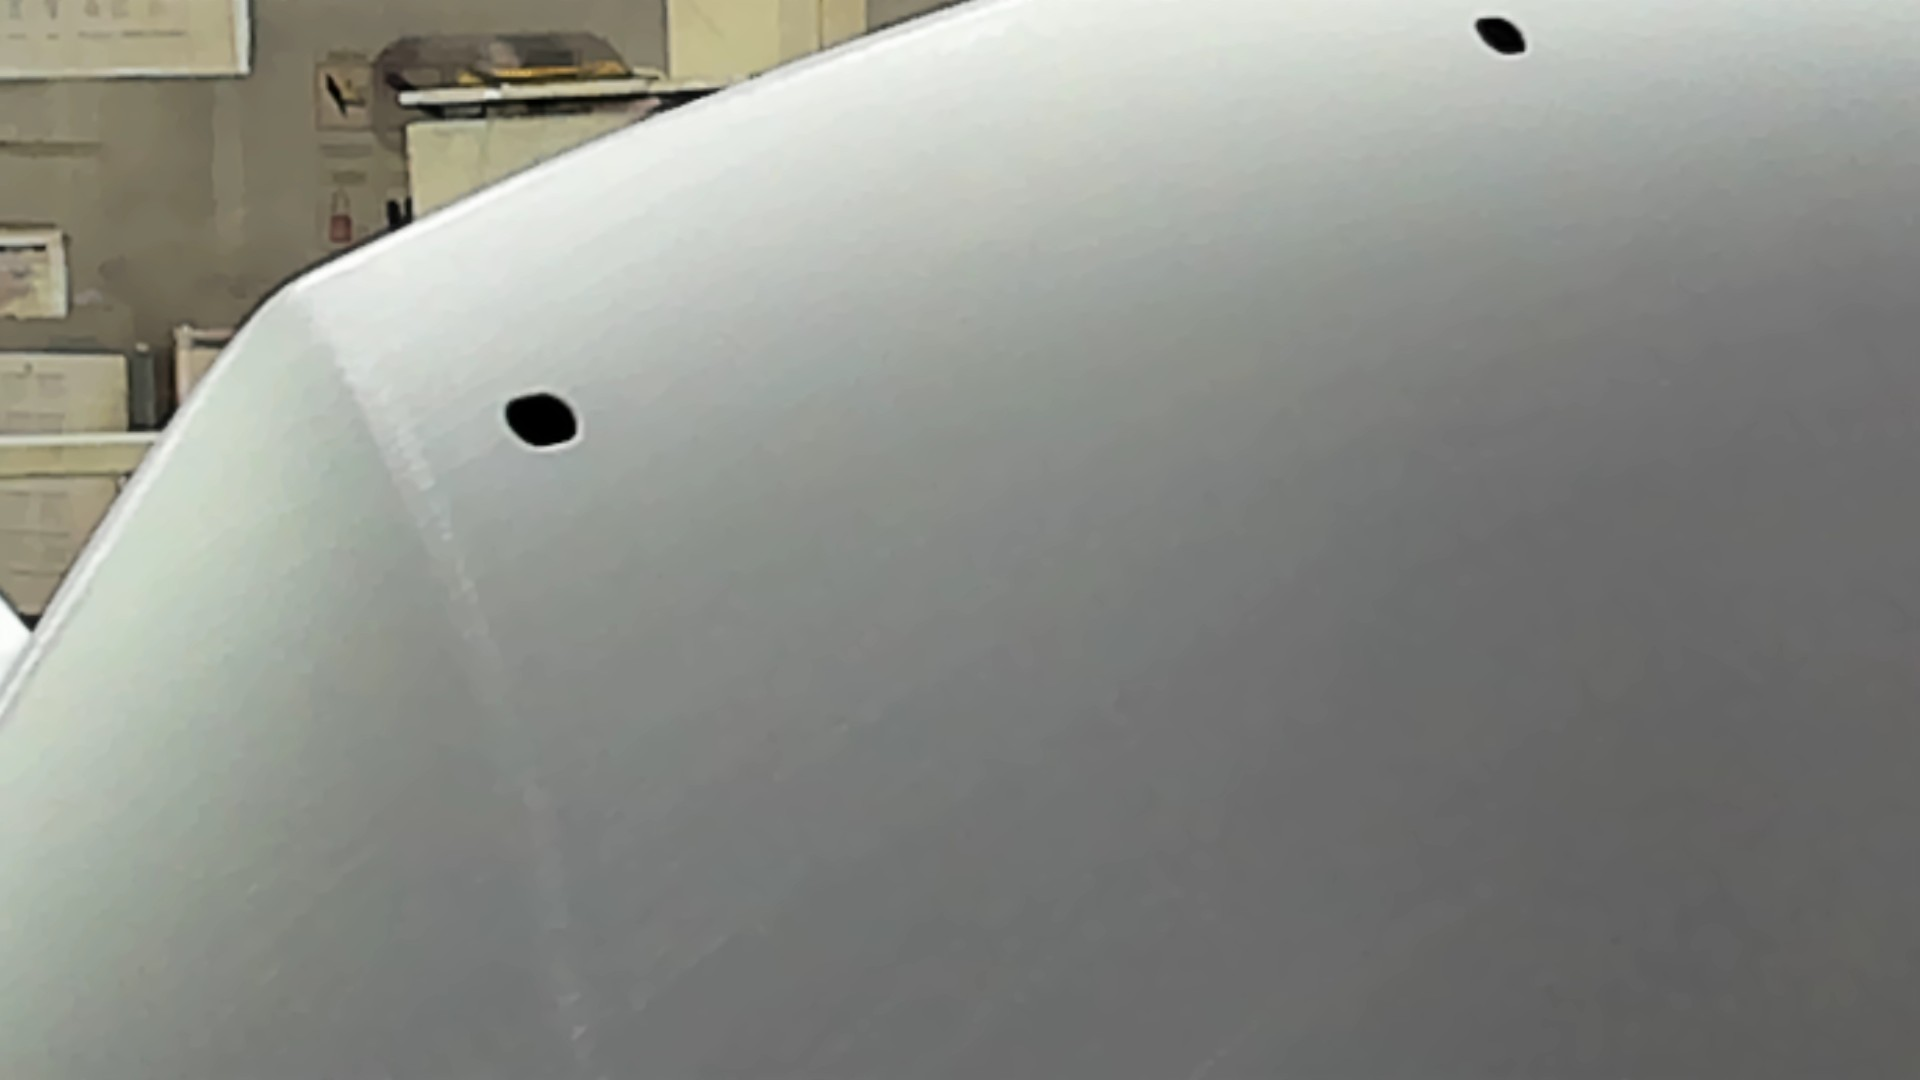amorfo: (496, 386, 587, 455), (1468, 13, 1530, 59)
capo: (719, 125, 1920, 1080)
